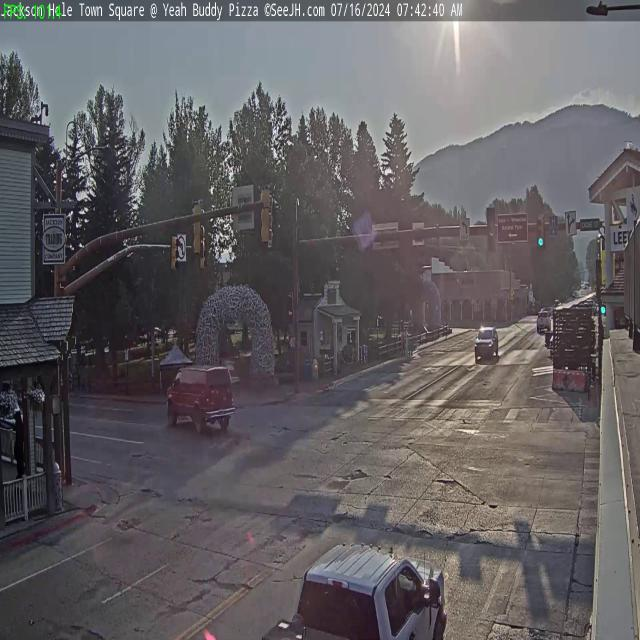pickup: (253, 535, 450, 640)
suv: (474, 324, 500, 359)
traffic light: (260, 185, 273, 245), (191, 200, 203, 258), (486, 208, 496, 254), (170, 235, 178, 272), (537, 214, 545, 248)
van: (164, 358, 238, 440)
